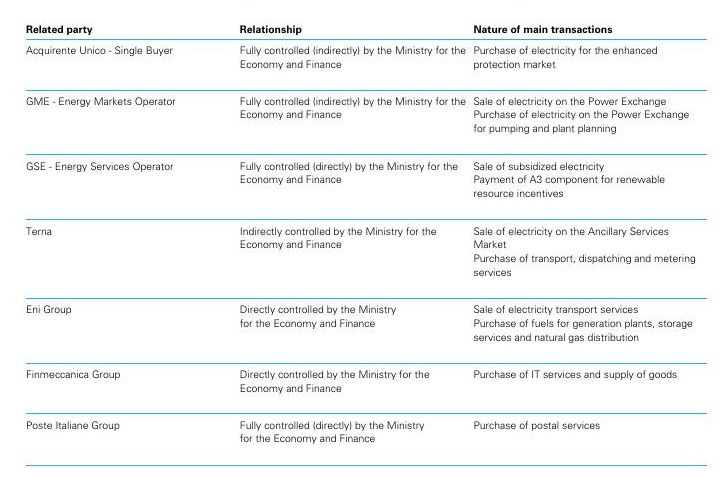table: (0, 0, 725, 482)
